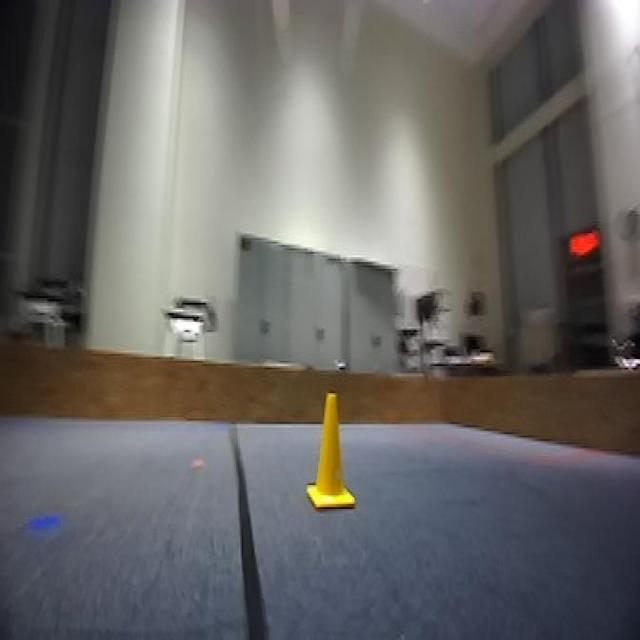frc_cone: (306, 398, 357, 518)
